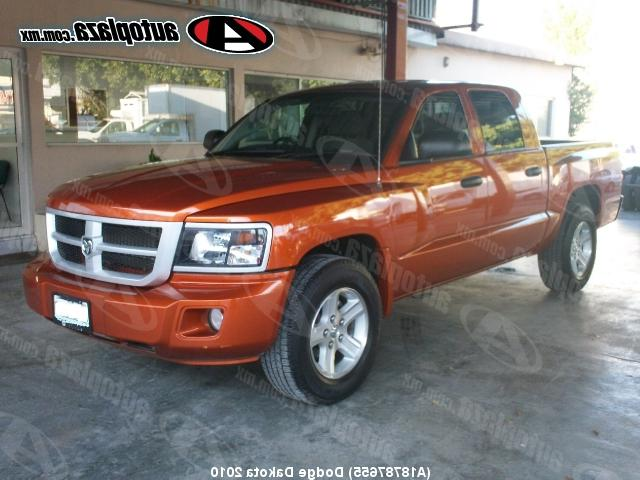Car: (1, 74, 639, 413)
